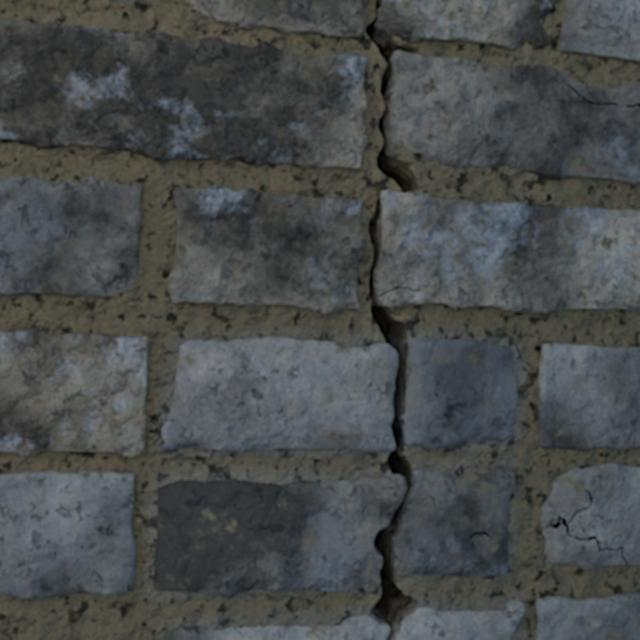broken_brick: (154, 474, 406, 597), (161, 336, 397, 452), (395, 467, 514, 575), (402, 338, 518, 448), (164, 615, 389, 639), (395, 600, 525, 639)
crack: (190, 0, 639, 639), (0, 18, 367, 169), (165, 185, 365, 314), (0, 327, 149, 457), (0, 471, 135, 599), (0, 176, 141, 297), (537, 343, 639, 450), (541, 463, 639, 569), (536, 592, 639, 639), (560, 0, 639, 61), (469, 531, 490, 537), (155, 508, 157, 548), (112, 0, 132, 2)
